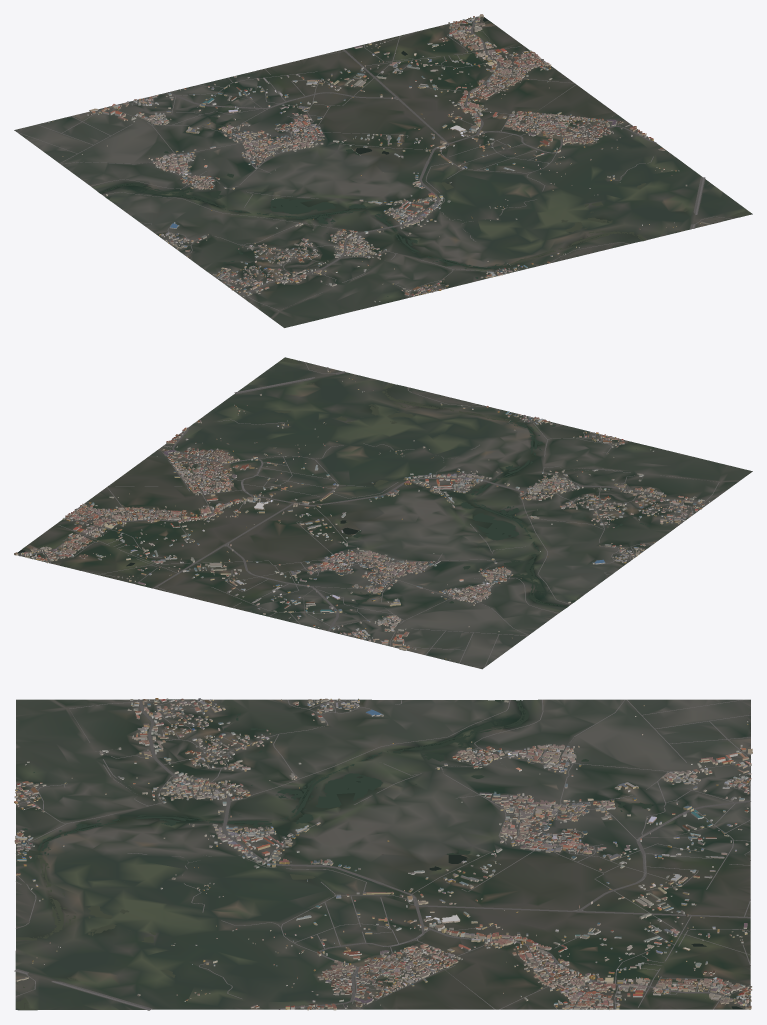
3 views of the same model, one above another, from view 1: azimuth 30°, elevation 25°; view 2: azimuth 150°, elevation 25°; view 3: azimuth 270°, elevation 25° (orthographic). The views are drawn at different scales.
Parts seen in each view (by area): view 1: ground, buildings, roads, water; view 2: ground, buildings, roads, water; view 3: ground, buildings, roads, water.
Part boxes in pixels (bbox=[...]): ground: bbox=[14, 16, 752, 327]; buildings: bbox=[48, 14, 709, 302]; roads: bbox=[16, 16, 731, 310]; water: bbox=[99, 17, 750, 296]; ground: bbox=[17, 357, 752, 669]; buildings: bbox=[14, 367, 709, 660]; roads: bbox=[19, 362, 719, 667]; water: bbox=[17, 358, 659, 607]; ground: bbox=[15, 699, 750, 1010]; buildings: bbox=[14, 698, 752, 1010]; roads: bbox=[14, 699, 750, 1010]; water: bbox=[16, 700, 743, 1009].
Size of the model in its own units: 2815 by 26.33 by 2819.
